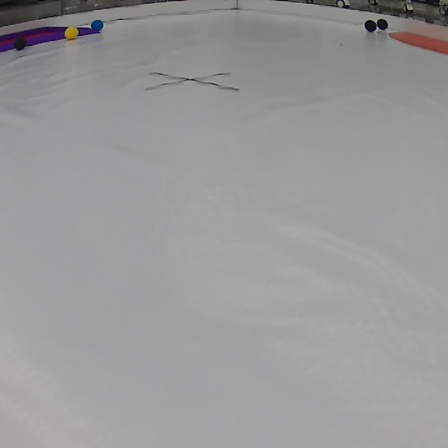black: (361, 20, 376, 32), (14, 36, 25, 51), (377, 18, 387, 31)
blue: (90, 19, 102, 33)
red: (389, 30, 446, 58)
red_aim: (0, 23, 101, 45)
yellow: (63, 25, 77, 38)
